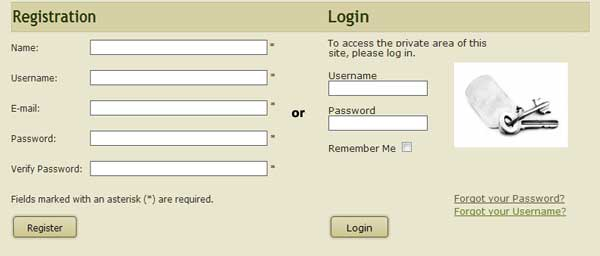_form_: (316, 22, 600, 256), (1, 22, 284, 256)
button: (12, 216, 78, 239), (330, 215, 390, 238)
checkbox: (400, 141, 413, 153)
checkbox_with_label: (329, 140, 414, 154)
field: (87, 129, 269, 148), (89, 69, 269, 87), (88, 100, 268, 117), (89, 160, 269, 177), (89, 39, 270, 55), (327, 114, 429, 132), (327, 79, 428, 96)
field_with_label: (10, 98, 270, 119), (12, 128, 271, 149), (11, 68, 271, 88), (11, 159, 270, 178), (11, 38, 271, 56), (326, 105, 430, 133), (326, 72, 429, 98)
